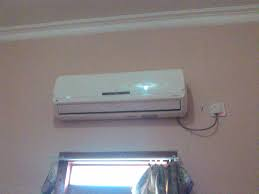AC: (55, 76, 189, 118)
